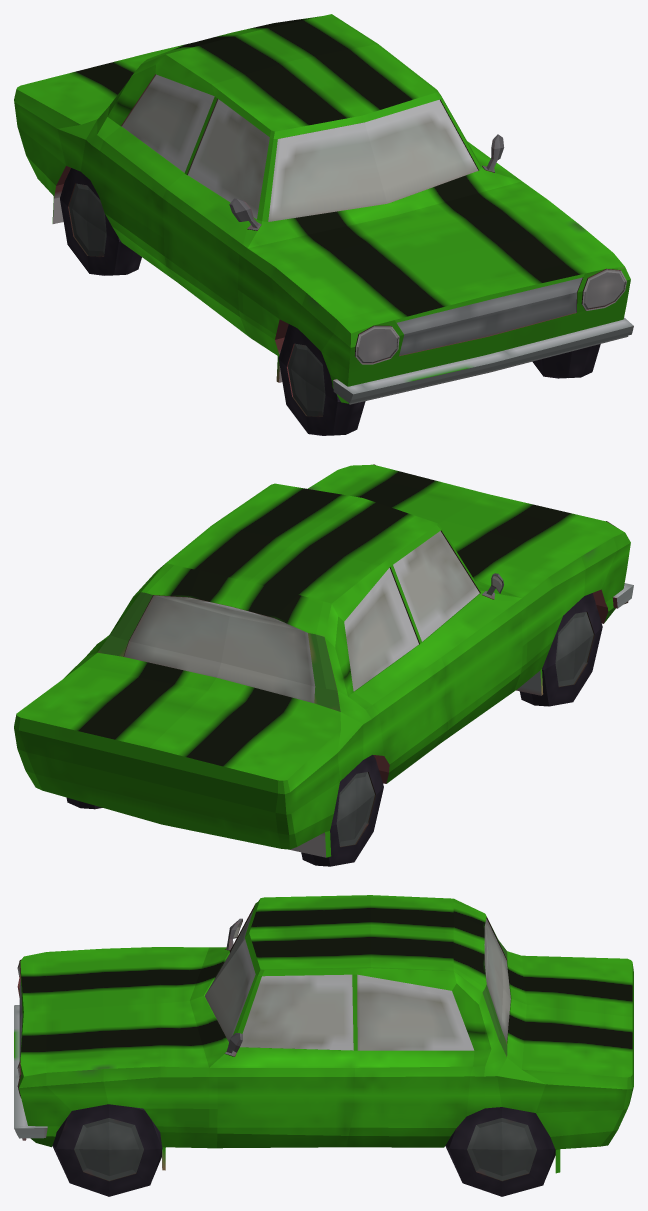
The model's file is Ben10.fbx.
3 views of the same model, one above another, from view 1: azimuth 30°, elevation 25°; view 2: azimuth 150°, elevation 25°; view 3: azimuth 270°, elevation 25° (orthographic). The views are drawn at different scales.
Visible parts, largest first — view 1: Car1.001; view 2: Car1.001; view 3: Car1.001.
Part boxes in pixels (x1=…): Car1.001: x1=14, y1=14, x2=633, y2=435; Car1.001: x1=14, y1=464, x2=633, y2=866; Car1.001: x1=14, y1=895, x2=633, y2=1196.
Size of the model in its own units: 206 by 166 by 430.
1 material, 1 textured.
